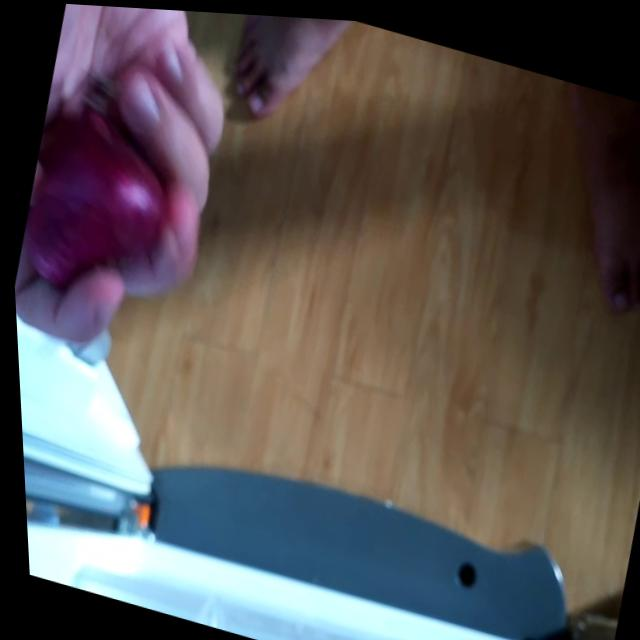onion: (5, 90, 184, 315)
